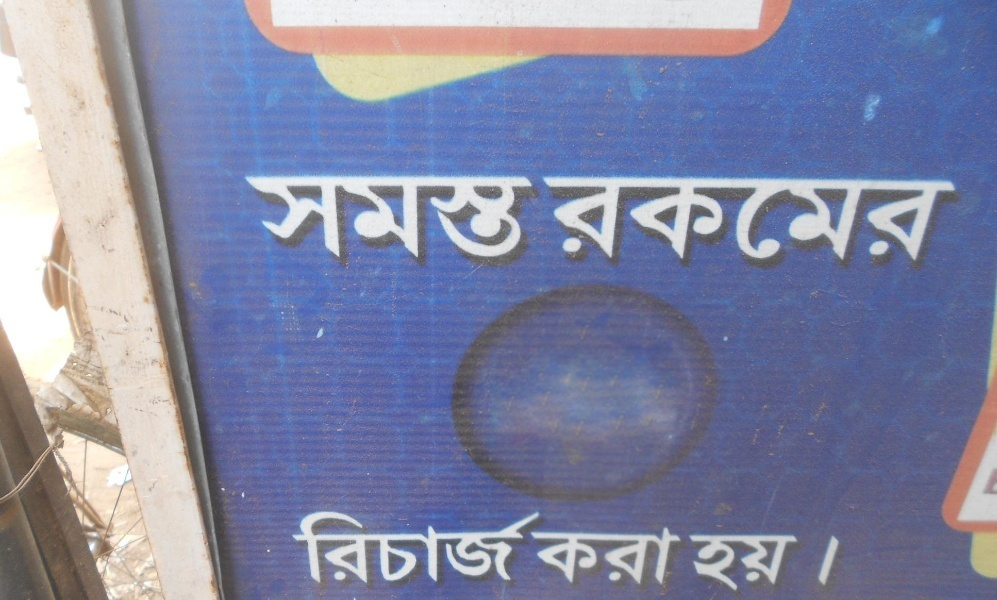text: (257, 172, 272, 269), (273, 172, 288, 269), (289, 172, 304, 269), (305, 172, 320, 269), (321, 172, 336, 269), (337, 172, 352, 269), (353, 172, 368, 269), (369, 172, 384, 269), (385, 172, 400, 269), (401, 172, 416, 269), (417, 172, 432, 269), (433, 172, 448, 269), (449, 172, 464, 269), (465, 172, 480, 269), (481, 172, 496, 269), (497, 172, 512, 269), (513, 172, 528, 269), (545, 173, 560, 269), (561, 173, 576, 269), (577, 173, 592, 269), (593, 173, 608, 269), (609, 173, 624, 269), (625, 173, 640, 269), (641, 173, 656, 269), (657, 173, 672, 269), (673, 173, 688, 269), (689, 173, 704, 269), (705, 173, 720, 269), (721, 173, 736, 269), (737, 173, 752, 269), (753, 173, 768, 269), (769, 173, 784, 269), (785, 173, 800, 269), (801, 173, 816, 269), (817, 173, 832, 269), (833, 173, 848, 269), (849, 173, 864, 269), (865, 173, 880, 269), (881, 173, 896, 269), (897, 173, 912, 269), (913, 173, 928, 269), (929, 173, 944, 269), (945, 173, 960, 269), (289, 506, 304, 590), (305, 506, 320, 590), (321, 506, 336, 590), (337, 506, 352, 590), (353, 506, 368, 590), (369, 506, 384, 590), (385, 506, 400, 590), (401, 506, 416, 590), (417, 506, 432, 590), (433, 506, 448, 590), (449, 506, 464, 590), (465, 506, 480, 590), (481, 506, 496, 590), (497, 506, 512, 590), (513, 506, 528, 590), (529, 506, 543, 590), (244, 172, 256, 269), (689, 522, 704, 595), (705, 522, 720, 595), (721, 522, 736, 595), (737, 522, 752, 595), (753, 522, 768, 595), (769, 522, 784, 595), (785, 522, 800, 595), (529, 526, 544, 591), (545, 526, 560, 591), (561, 526, 576, 591), (577, 526, 592, 591), (593, 526, 608, 591), (609, 526, 624, 591), (625, 526, 640, 591), (641, 526, 656, 591), (657, 526, 672, 591), (673, 526, 688, 591), (817, 530, 832, 587), (529, 172, 537, 269), (833, 530, 842, 587), (801, 522, 806, 595), (961, 173, 964, 269), (286, 506, 288, 590), (686, 522, 688, 595), (814, 530, 816, 587), (543, 173, 544, 269)
